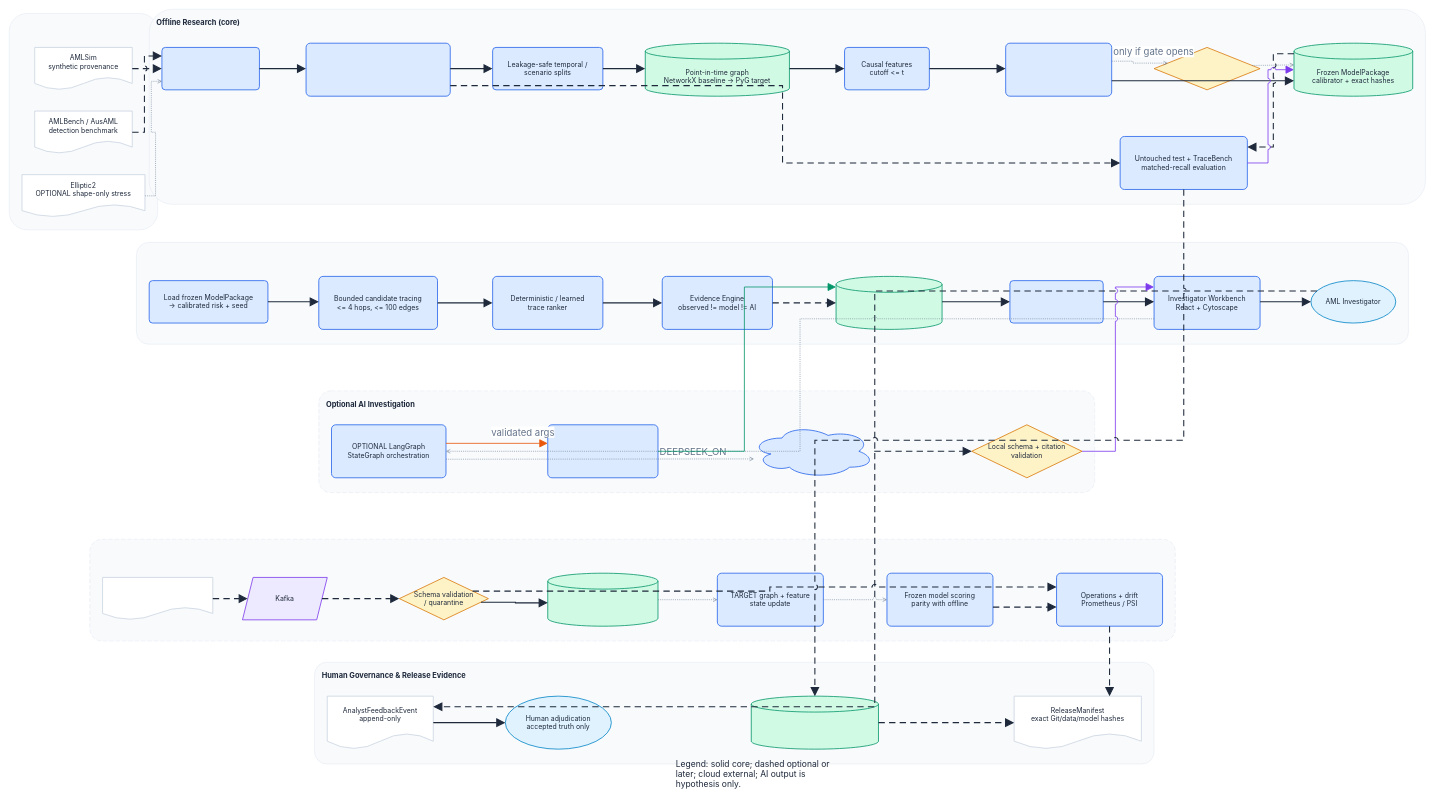
Some shapes in this 1435 by 799 pixel diagram are drawn without their labels. The box of each missing label's shape, as (x1, y1, x2, y2) in pixels:
Append-only case / evidence services: (835, 276, 942, 330)
Bounded Case API FastAPI / Pydantic: (1009, 280, 1103, 323)
Dataset + TraceGold manifests & hashes: (161, 47, 260, 90)
Dataset replay / source: (102, 577, 213, 620)
Idempotent ReplayState source offsets + hashes: (547, 573, 658, 626)
LangChain bounded tools read-only allowlist: (547, 424, 658, 478)
Later Streaming / Online: (89, 539, 1175, 641)
MLflow / run ledger tracking, no auto-promotion: (751, 696, 879, 749)
Nguồn dữ liệu / benchmark: (9, 13, 158, 230)
OPTIONAL DeepSeek provider call/token/VND caps: (751, 424, 874, 478)
OPTIONAL evidence gate HGT / TGN / Hybrid: (1153, 47, 1260, 90)
Public projection | Hidden gold tri-state truth separation: (305, 43, 450, 96)
Rules + LR/LightGBM + mandatory GraphSAGE: (1005, 43, 1112, 96)
Runtime Investigation (target product): (136, 242, 1408, 344)
